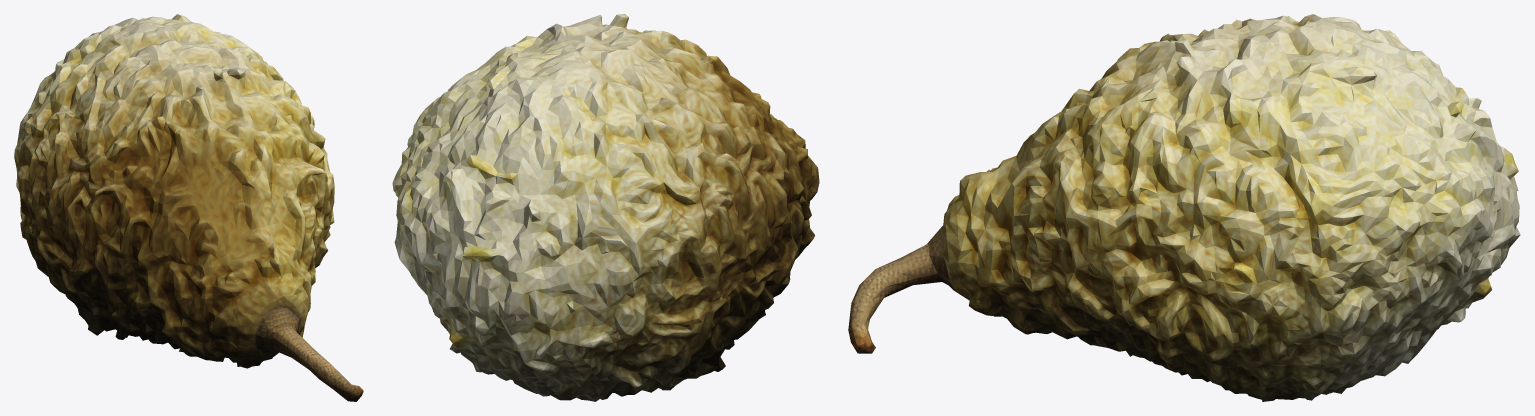
The model's file is natural-luffa-sponge-rustic.jpeg.glb.
The picture shows the model from 3 angles, left to right: view 1: azimuth 30°, elevation 25°; view 2: azimuth 150°, elevation 25°; view 3: azimuth 270°, elevation 25°; orthographic projection. The views are drawn at different scales.
Parts seen in each view (by area): view 1: world; view 2: world; view 3: world.
Boxes of the visible parts, x1,y1,x2,y2 form: world: [14, 14, 363, 401]; world: [392, 14, 819, 401]; world: [848, 14, 1520, 401].
Bounding box in the file's own units: 0.5855 × 0.5848 × 0.997.
1 material, 1 textured.
